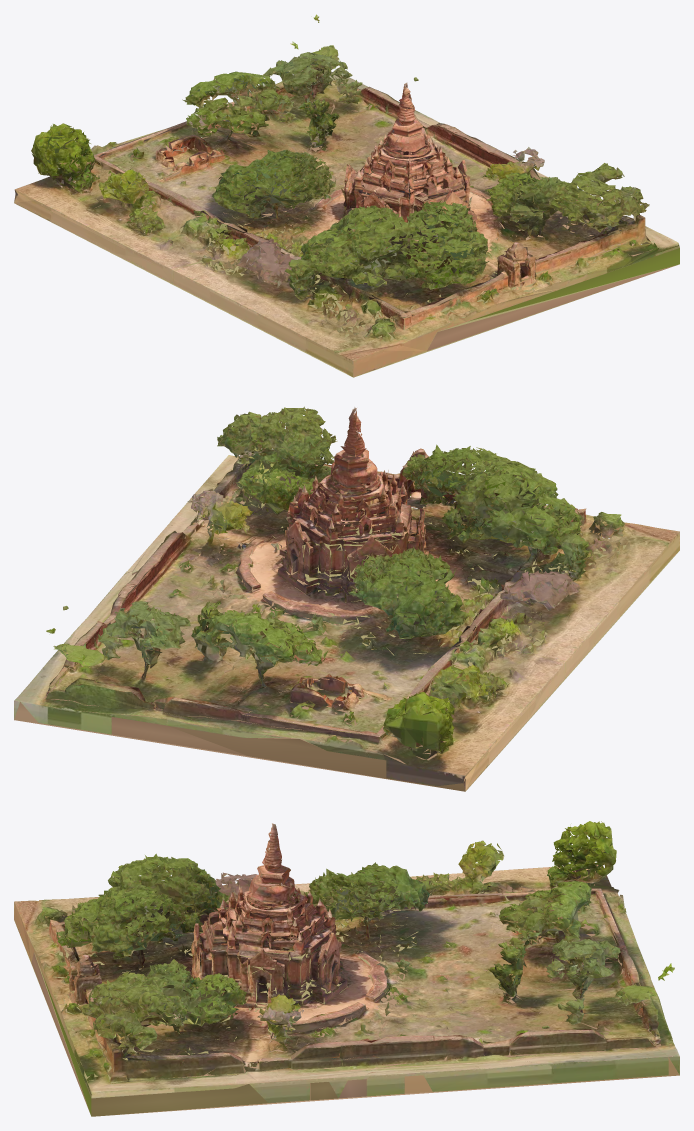
File: bagan.glb
3 views of the same model, one above another, from view 1: azimuth 30°, elevation 25°; view 2: azimuth 150°, elevation 25°; view 3: azimuth 270°, elevation 25° (orthographic). The views are drawn at different scales.
Visible parts, largest first — view 1: Object_2; view 2: Object_2; view 3: Object_2.
Part boxes in pixels (x1,y1,x2,y2): Object_2: (14, 14, 679, 377); Object_2: (14, 406, 679, 791); Object_2: (14, 821, 679, 1116).
Size of the model in its own units: 81.75 by 30.3 by 96.69.
Materials: 1 (1 with a texture image).
